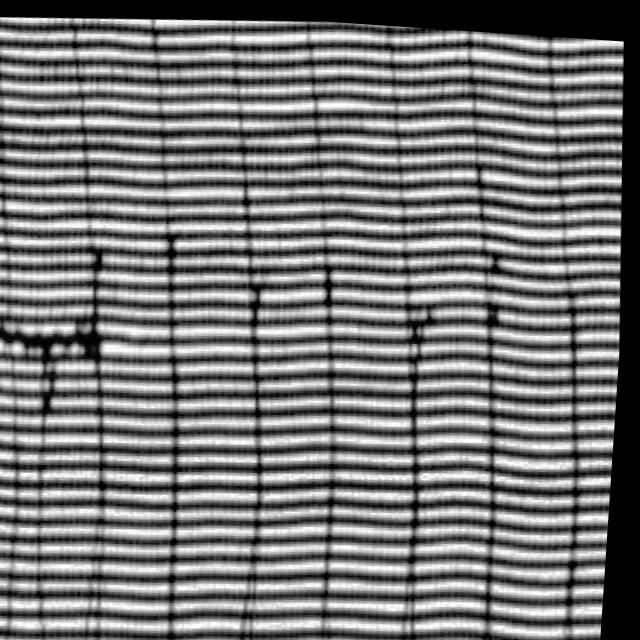Stitch: (0, 282, 120, 400)
